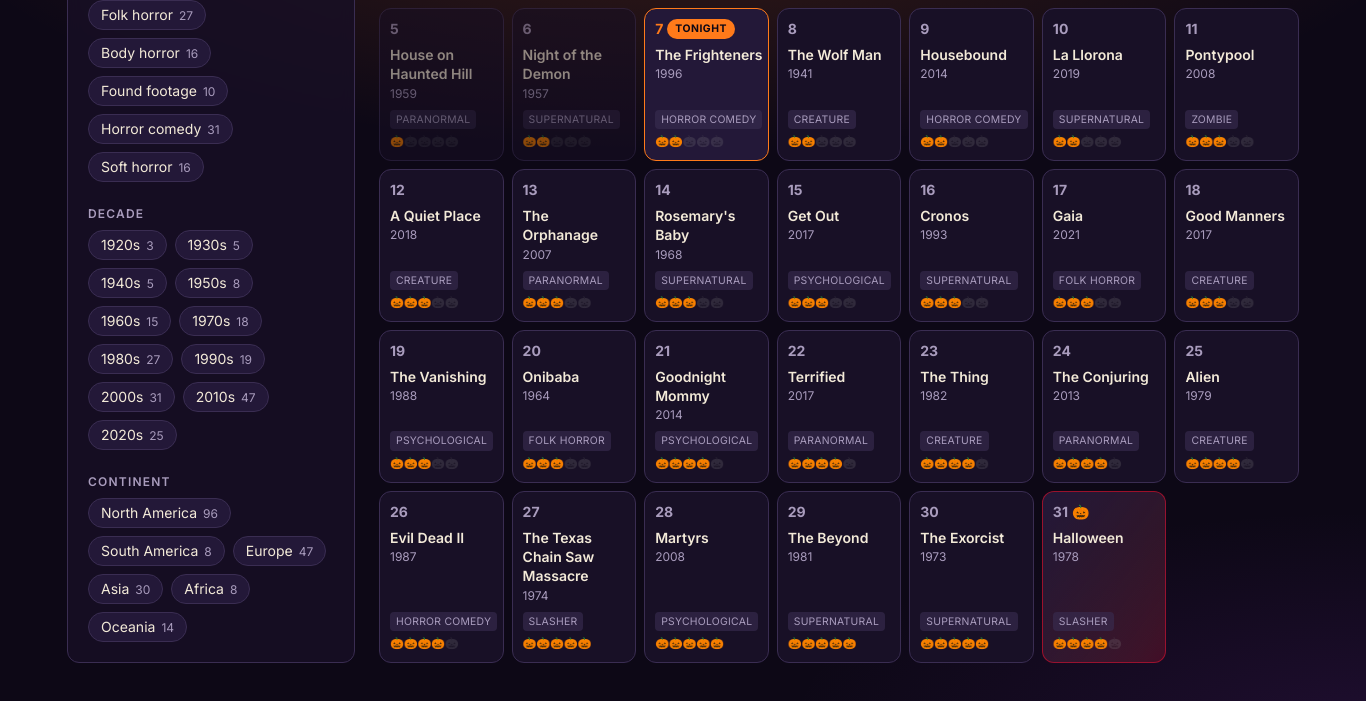
App › re-plans the month when a filter is toggled and syncs the URL
The width and height of the screenshot is (1366, 701).
(page scrolled)
Click the button "Oceania14" at (138, 627), box [88,612,187,642]
(page scrolled)
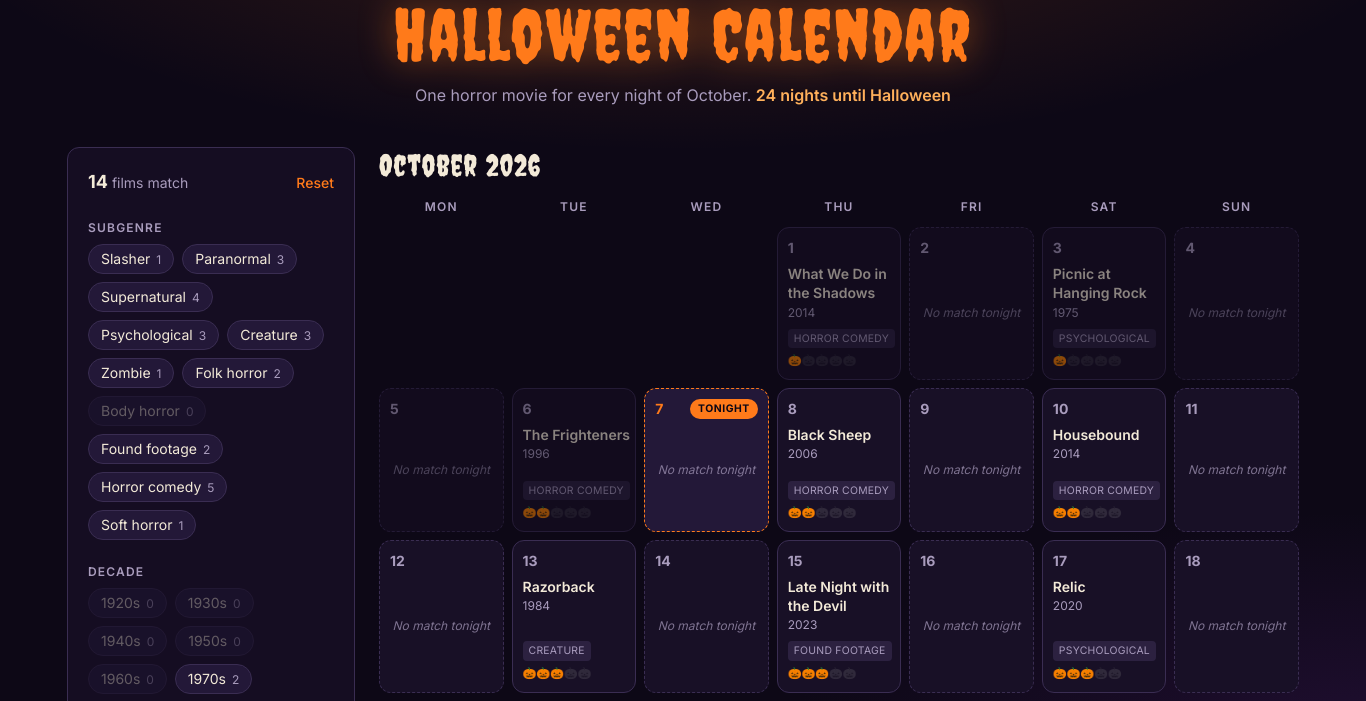
Expected: the 1st text "No match tonight" is shown, [923,306,1020,322]
